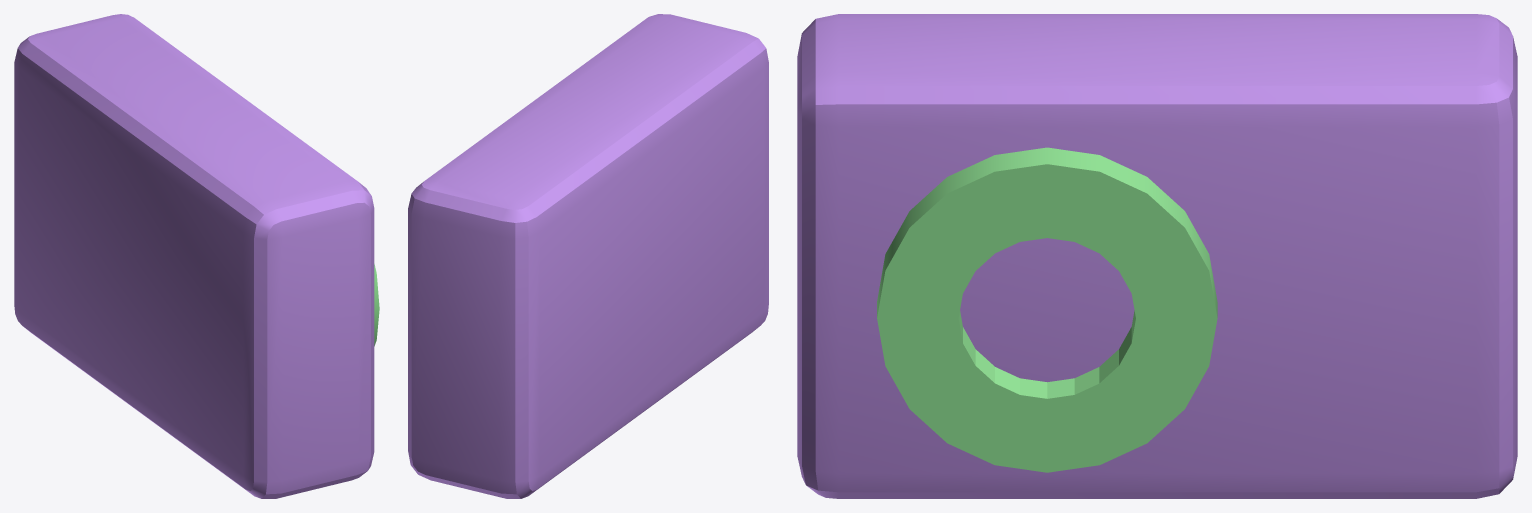
Rendered from Ventilateur.FBX.
The picture shows the model from 3 angles, left to right: view 1: azimuth 30°, elevation 25°; view 2: azimuth 150°, elevation 25°; view 3: azimuth 270°, elevation 25°; orthographic projection. The views are drawn at different scales.
Parts seen in each view (by area): view 1: Ventilateur; view 2: Ventilateur; view 3: Ventilateur.
Part boxes in pixels (bbox=[...]): Ventilateur: bbox=[14, 14, 379, 498]; Ventilateur: bbox=[408, 14, 768, 498]; Ventilateur: bbox=[797, 14, 1517, 498].
Bounding box in the file's own units: 1.47 × 2.78 × 4.3.
